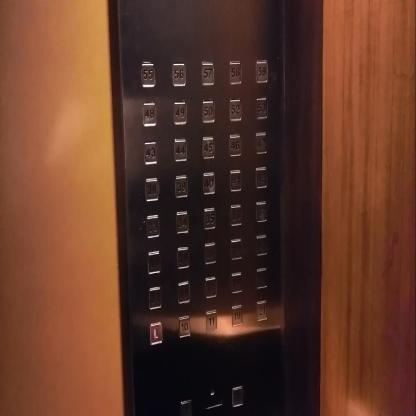10: (178, 314, 191, 339)
11: (205, 308, 217, 332)
19: (231, 302, 243, 327)
21: (256, 298, 268, 322)
33: (145, 213, 160, 239)
34: (175, 209, 189, 235)
35: (203, 206, 216, 231)
36: (229, 202, 242, 228)
37: (255, 198, 267, 223)
38: (144, 176, 159, 202)
39: (174, 173, 188, 199)
40: (202, 170, 216, 196)
41: (229, 168, 242, 193)
42: (254, 164, 268, 190)
43: (143, 138, 158, 166)
44: (173, 136, 187, 162)
45: (201, 133, 215, 160)
46: (228, 131, 242, 158)
47: (254, 130, 268, 156)
48: (141, 100, 157, 127)
49: (172, 98, 188, 126)
50: (200, 97, 216, 124)
52: (229, 96, 242, 122)
53: (255, 95, 269, 121)
55: (140, 58, 156, 89)
56: (171, 60, 187, 88)
57: (200, 58, 215, 86)
58: (228, 58, 242, 86)
59: (255, 58, 269, 84)
L: (149, 320, 163, 347)
blur: (146, 248, 161, 276), (176, 244, 190, 271), (148, 284, 162, 311), (203, 240, 217, 266), (176, 279, 190, 305), (204, 274, 217, 300), (229, 236, 242, 261), (255, 233, 268, 258), (230, 270, 242, 295), (256, 266, 267, 290)
empty: (230, 383, 244, 409)
